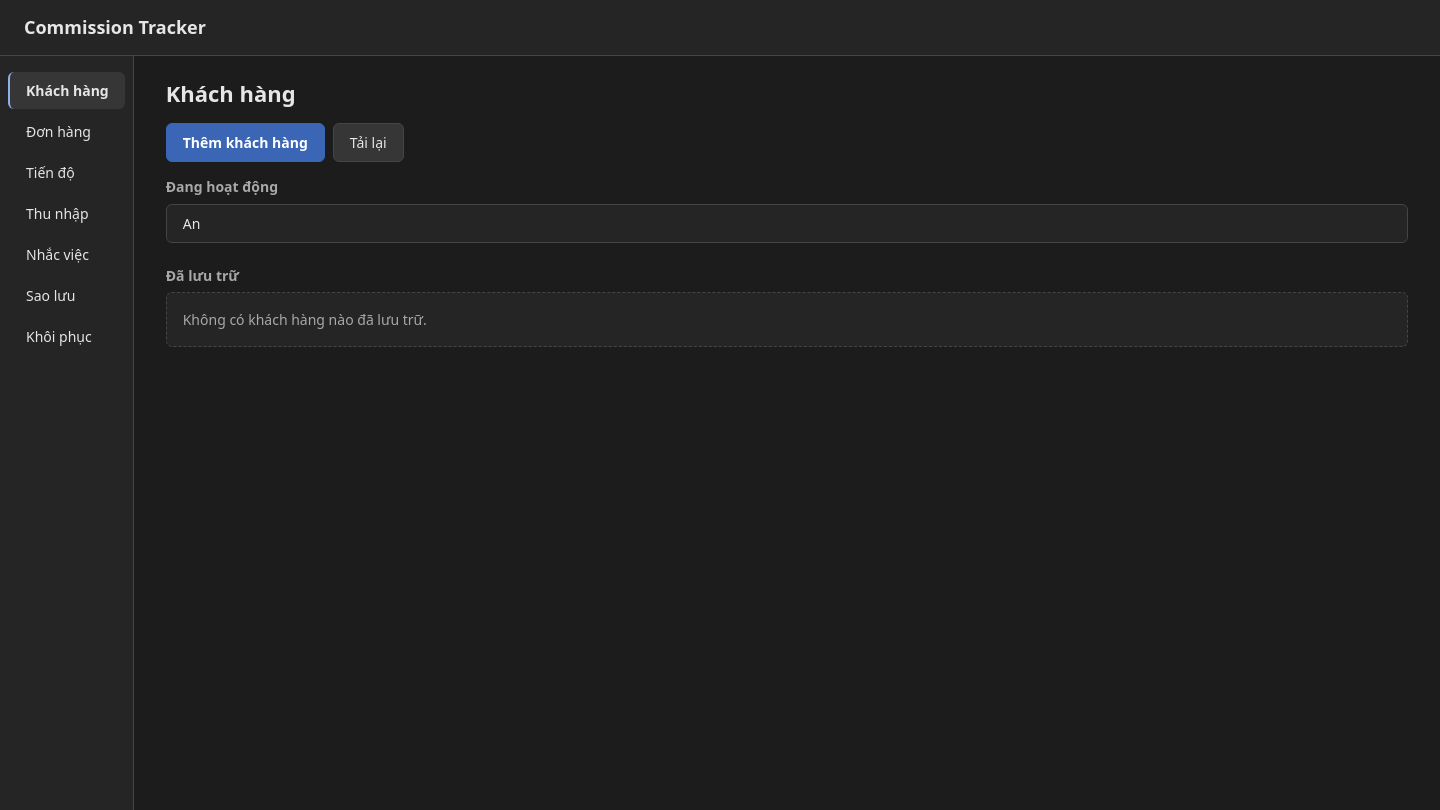
Scenario: AppRoot › "Đơn hàng" opens commission_list, marked current; a commission → its detail, "Đơn hàng" still current
Check: the button "An" is shown, box [167,204,1407,242]
Click the button "Đơn hàng": (66, 131) [8,112,125,150]
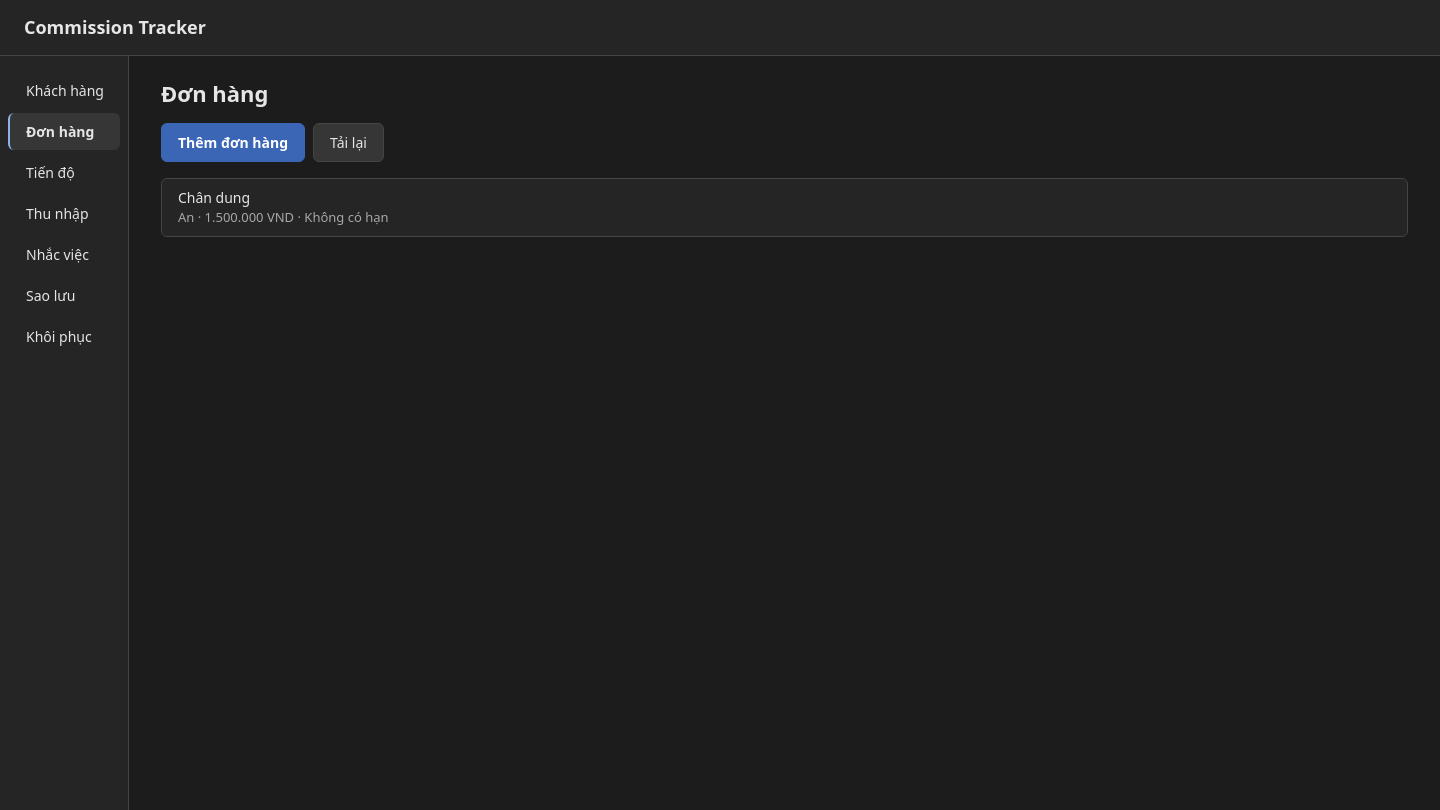
Check: the heading "Đơn hàng" is shown, box [161,78,268,108]
Click the button "Chân dung An · 1.500.000 VND · Không có hạn": (214, 198) [162,179,1407,236]
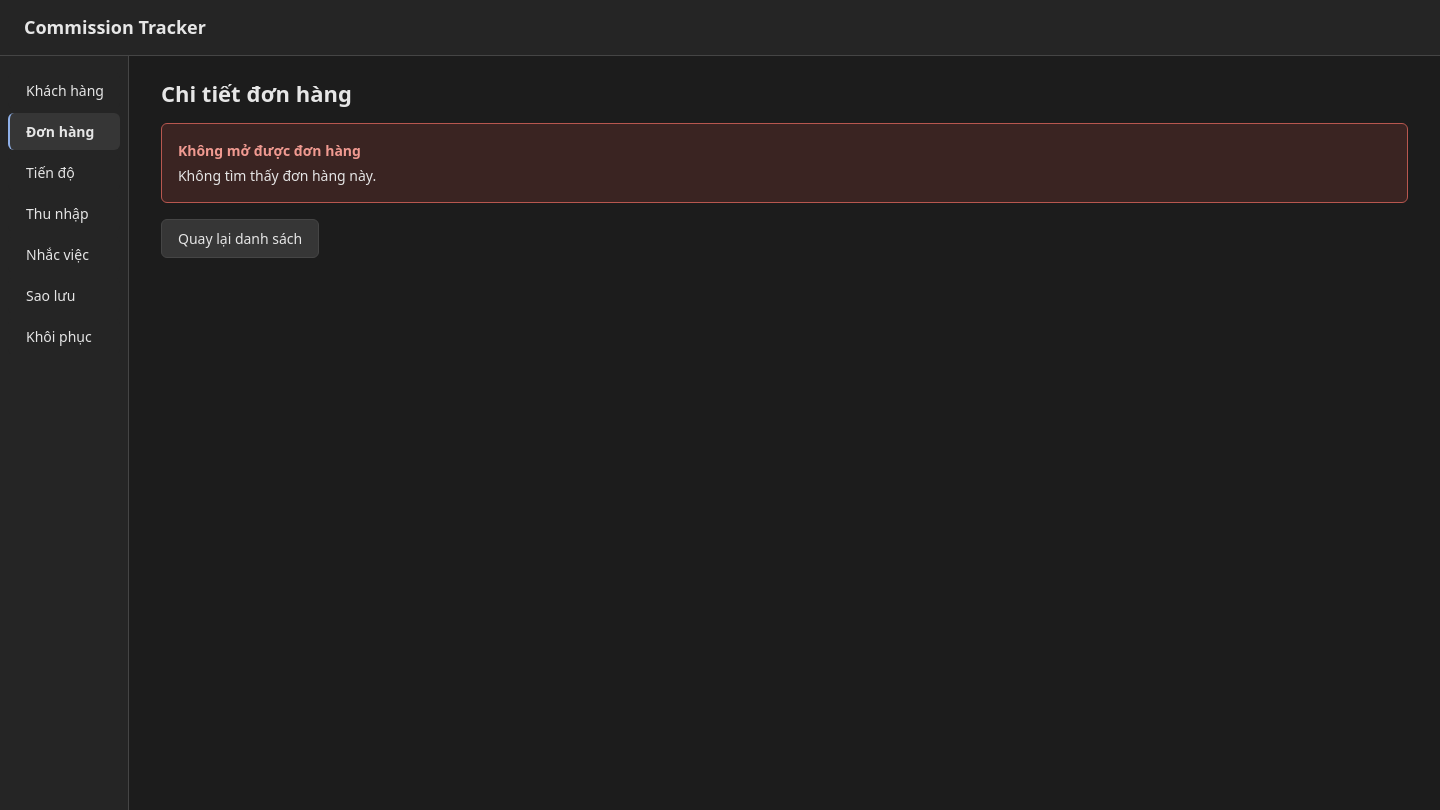
Check: the heading "Chi tiết đơn hàng" is shown, box [161,78,352,108]
